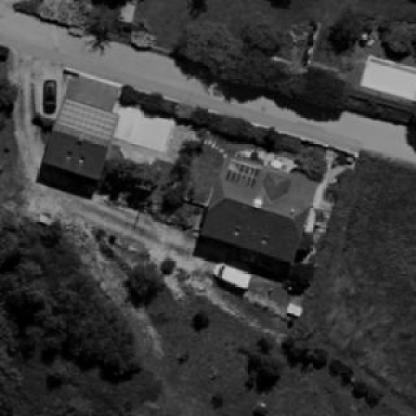solar-pv-panel: (57, 97, 118, 141), (225, 158, 261, 189)
